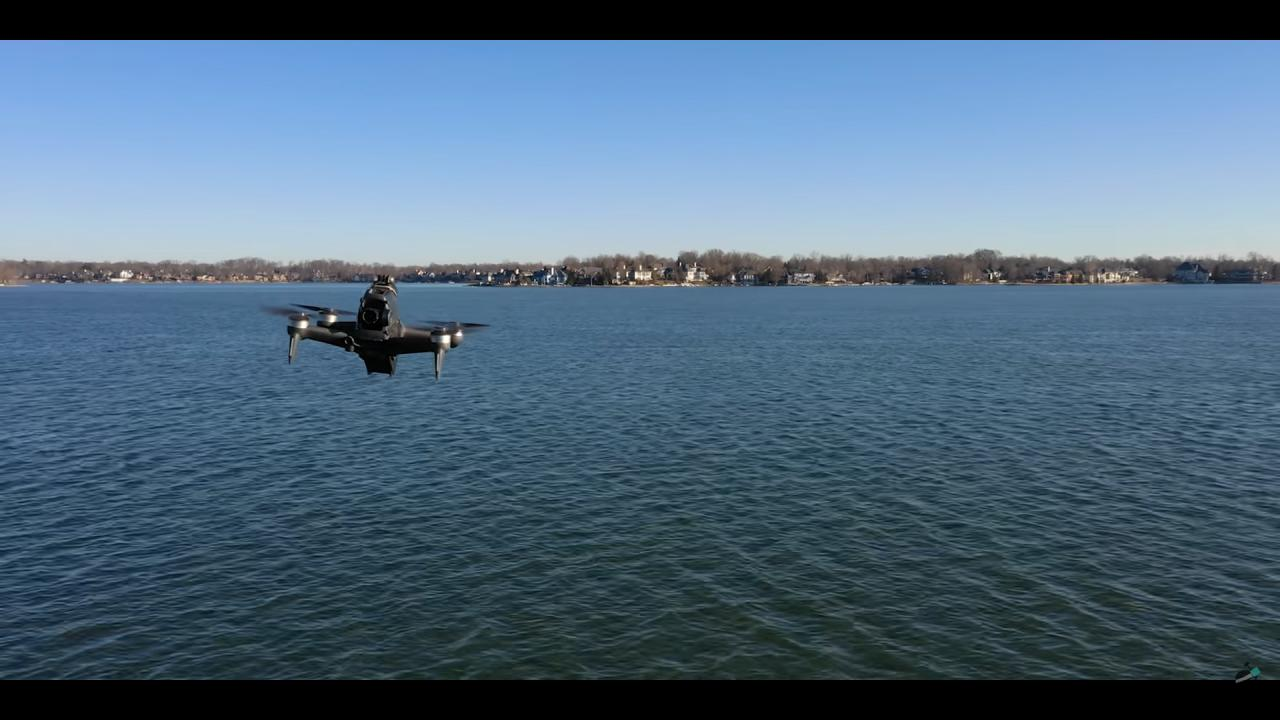Drone: (259, 268, 501, 394)
